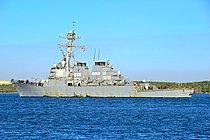MIL_Ship: (10, 18, 196, 99)
